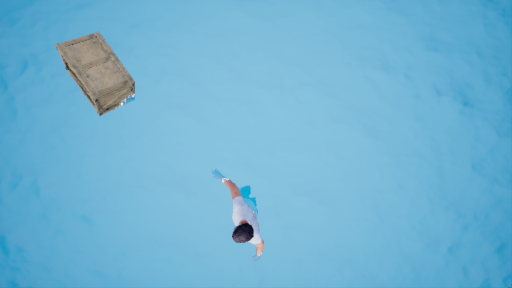person: (214, 176, 265, 257)
